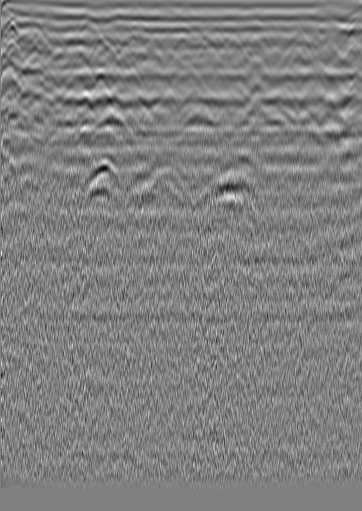가스: (80, 160, 124, 197)
상수: (323, 17, 343, 37)
오수: (28, 33, 48, 53)
우수: (185, 25, 205, 45)
